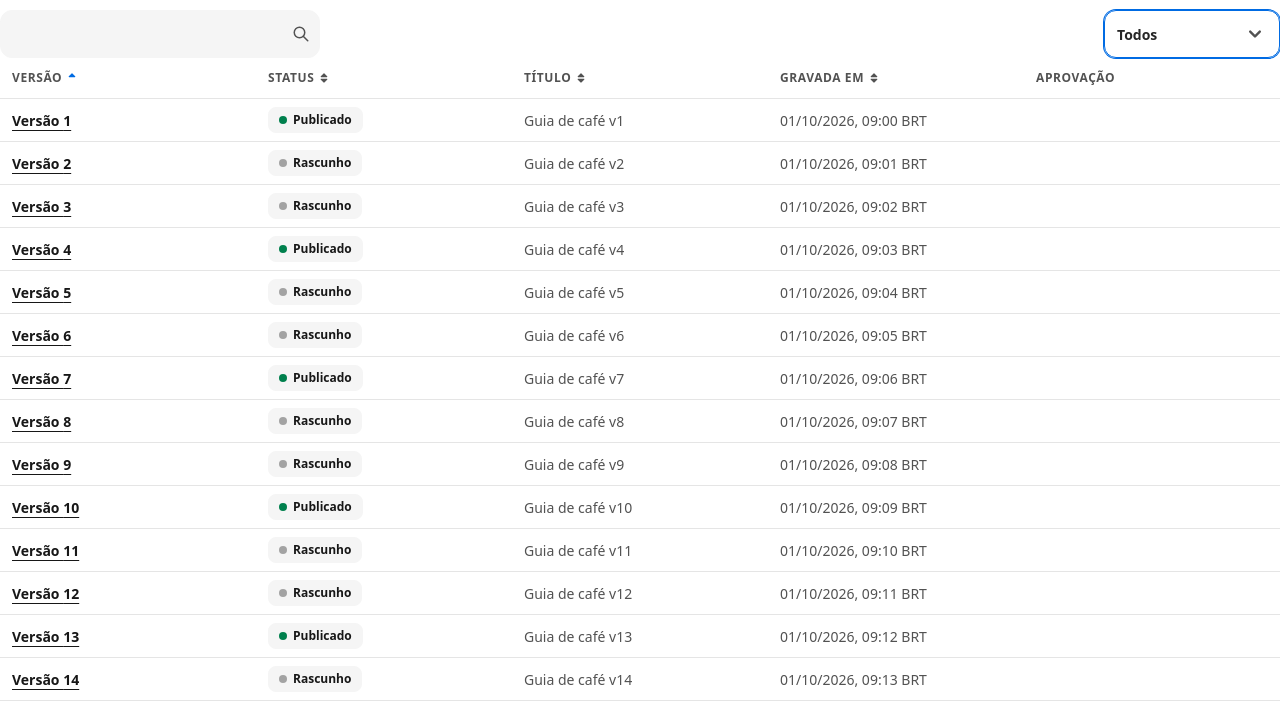
Test: busca, filtro, ordem e paginação (#366) › o filtro por status vai para a URL; "Limpar filtros" volta tudo
This screenshot has width=1280, height=701.
Press Arrowdown
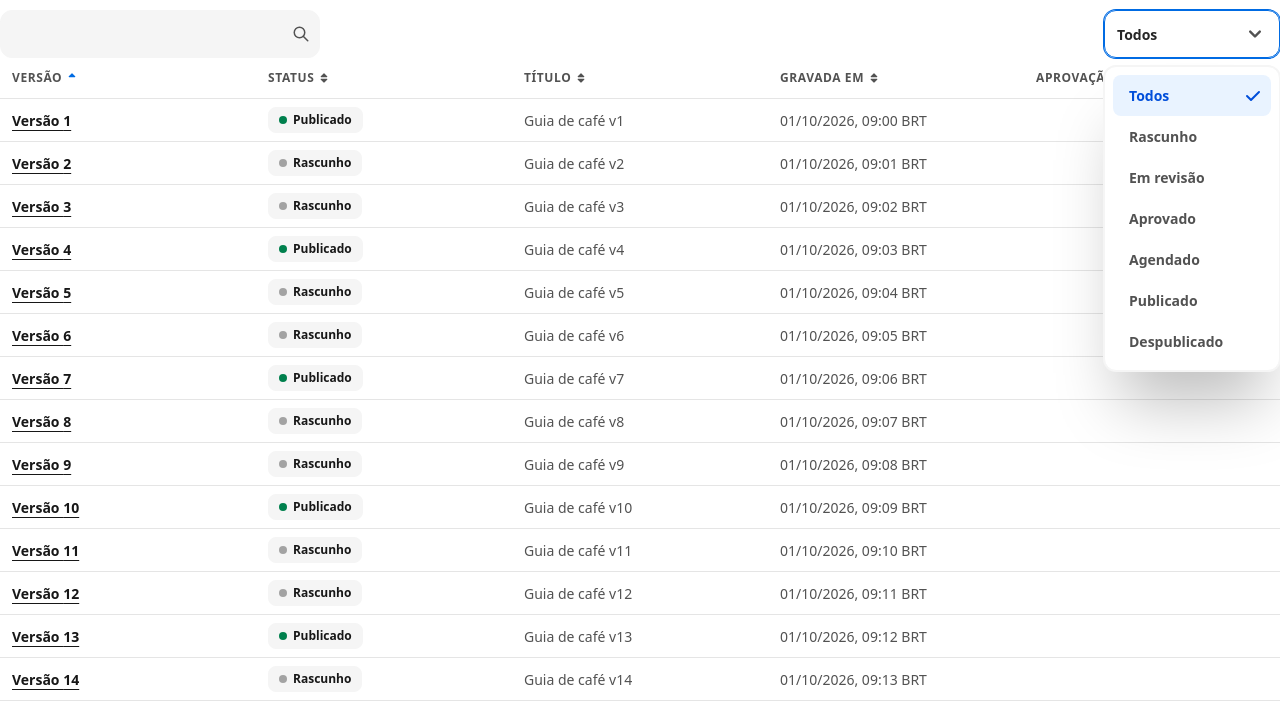
Click the option "Publicado" at (1163, 300), box [1129,291,1198,310]
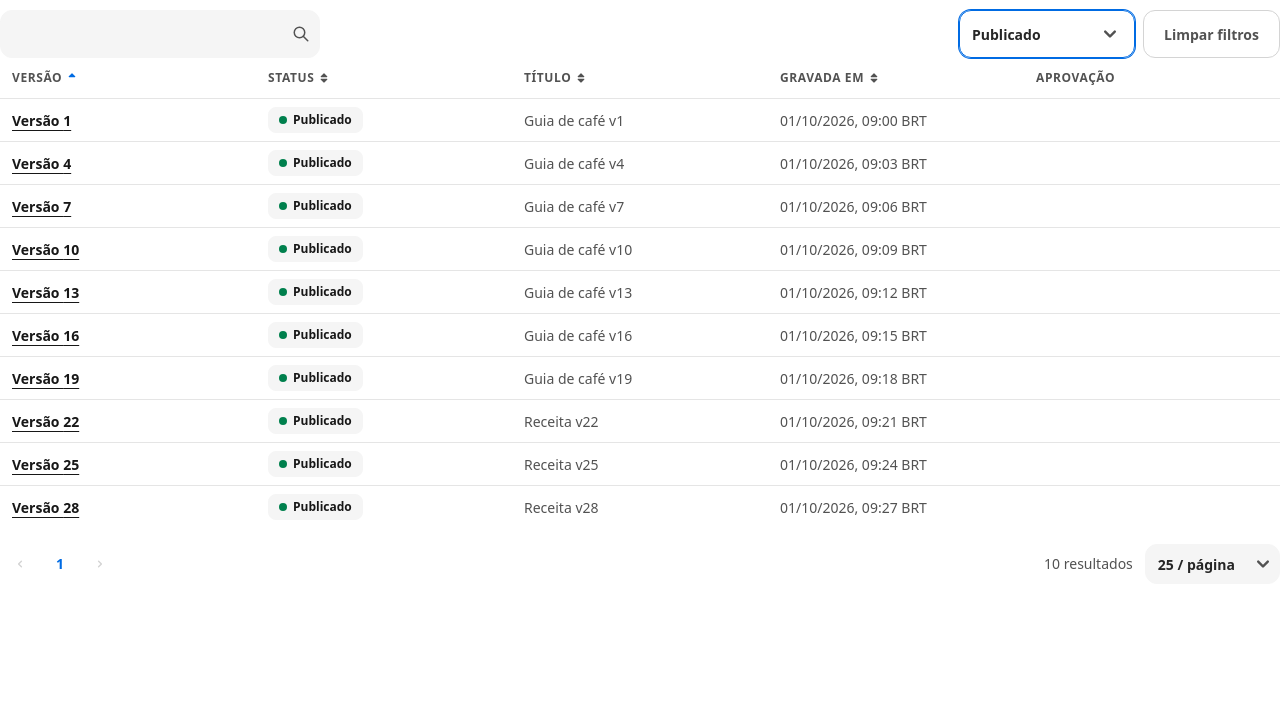
Result: the message reads "10 resultados" at [1044,554,1133,573]
Click the button "Limpar filtros" at (1212, 34), box [1143,10,1279,58]
(page scrolled)
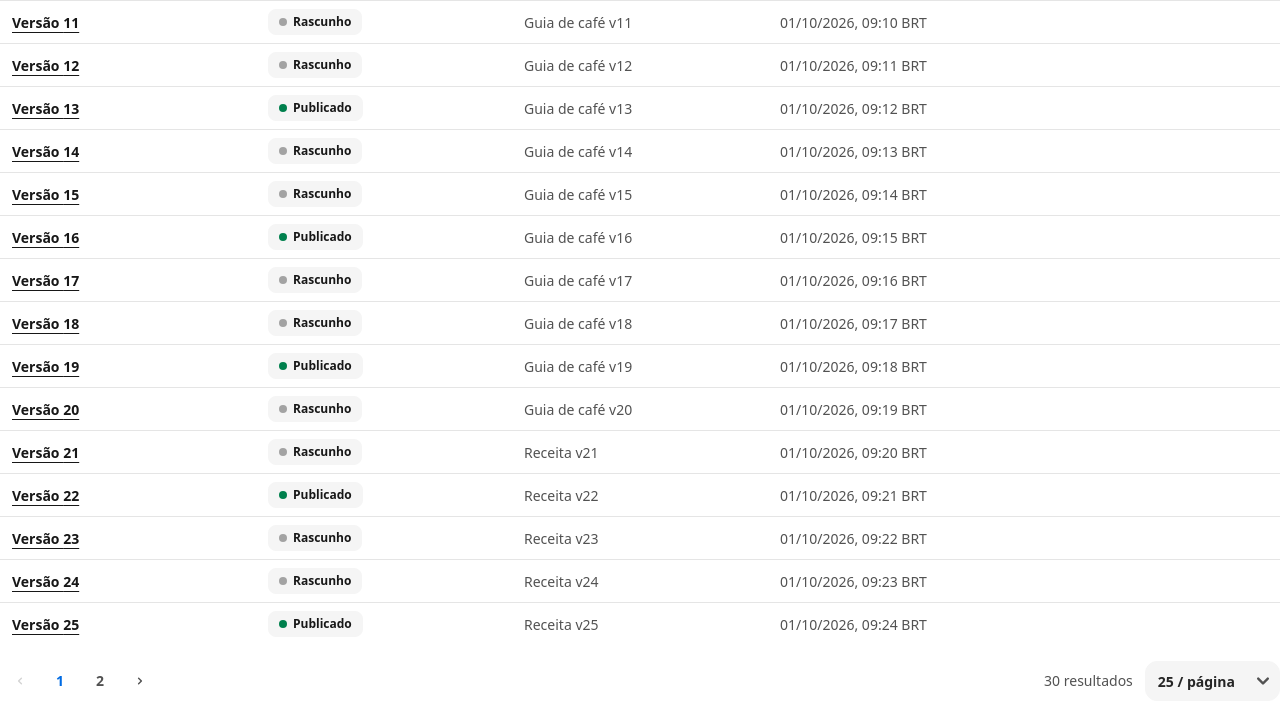
Result: the message reads "30 resultados" at [1044,671,1133,690]
